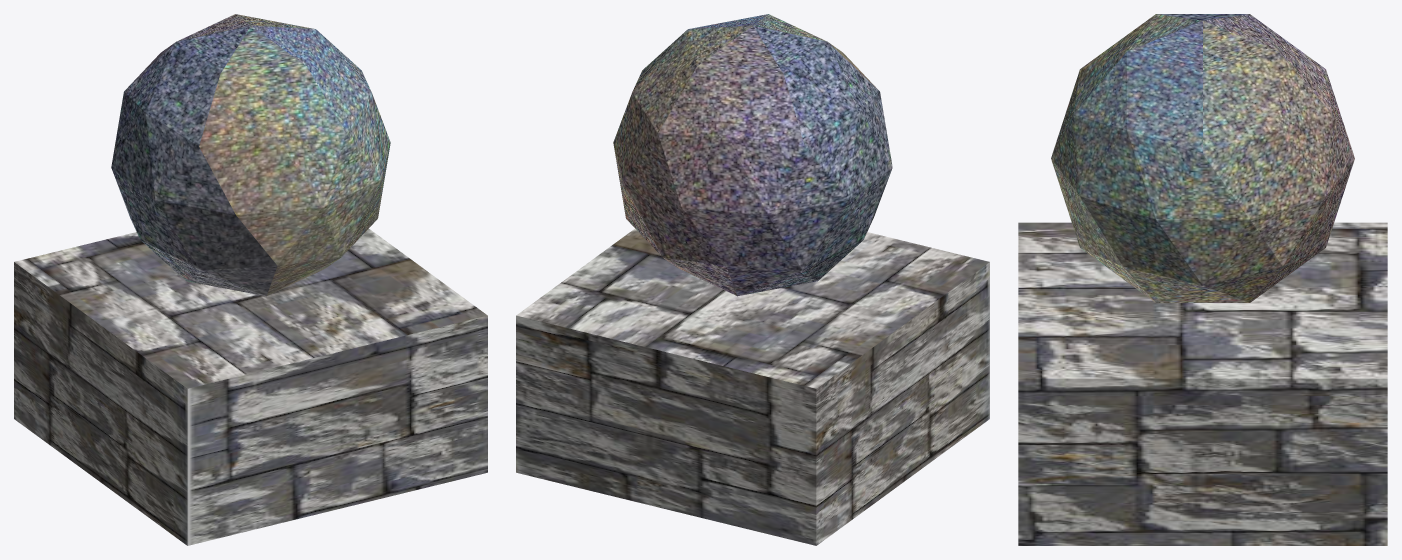
File: orb1.gltf
The picture shows the model from 3 angles, left to right: view 1: azimuth 30°, elevation 25°; view 2: azimuth 150°, elevation 25°; view 3: azimuth 270°, elevation 25°; orthographic projection. The views are drawn at different scales.
Parts seen in each view (by area): view 1: Cube, Icosphere; view 2: Cube, Icosphere; view 3: Cube, Icosphere.
Part boxes in pixels (x1,y1,x2,y2): Cube: (14, 228, 487, 545); Icosphere: (111, 14, 390, 296); Cube: (516, 228, 989, 545); Icosphere: (613, 14, 892, 296); Cube: (1018, 222, 1387, 545); Icosphere: (1051, 14, 1354, 302).
Bounding box in the file's own units: 2 × 2.67 × 2.
2 materials, 2 textured.
